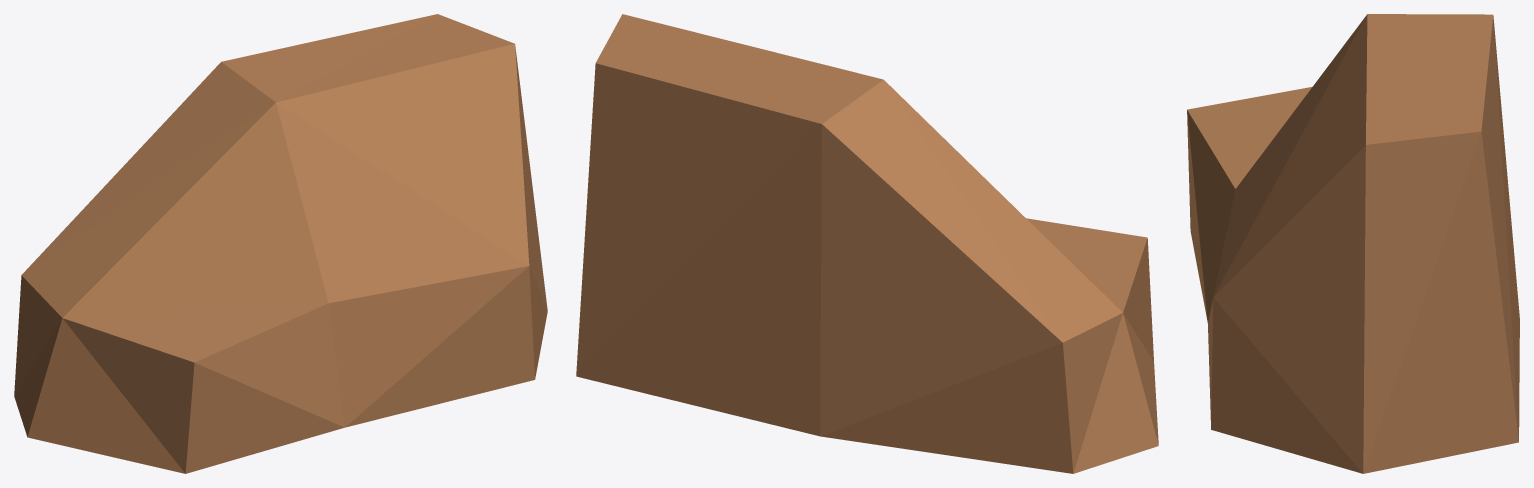
Rendered from Rock_22.fbx.
3 views of the same model, side by side, from view 1: azimuth 30°, elevation 25°; view 2: azimuth 150°, elevation 25°; view 3: azimuth 270°, elevation 25° (orthographic). The views are drawn at different scales.
Parts seen in each view (by area): view 1: Rock_22; view 2: Rock_22; view 3: Rock_22.
Part boxes in pixels (box(x1,y1,x2,y2)): Rock_22: box(14, 14, 547, 473); Rock_22: box(576, 14, 1158, 473); Rock_22: box(1187, 14, 1519, 473).
Size of the model in its own units: 246 by 120 by 124.
